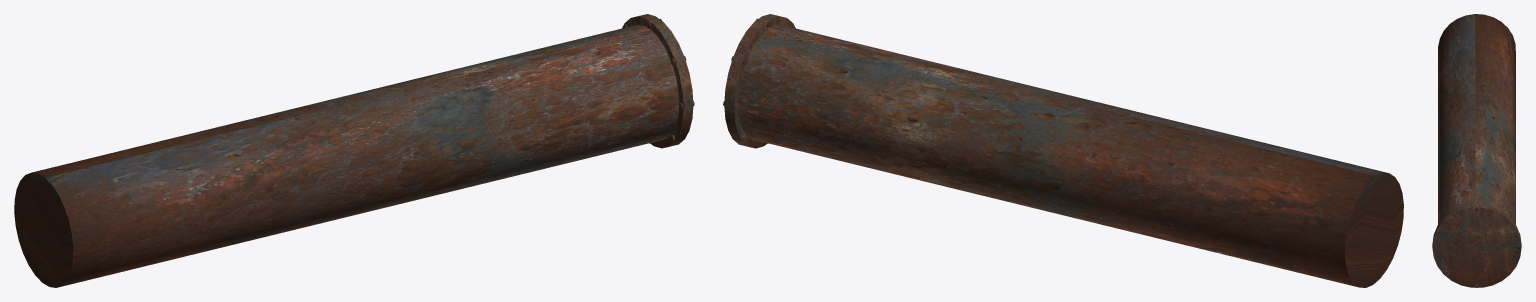
Rendered from pipe.FBX.
3 renders of one model, left to right at view 1: azimuth 30°, elevation 25°; view 2: azimuth 150°, elevation 25°; view 3: azimuth 270°, elevation 25°, orthographic. The views are drawn at different scales.
Parts seen in each view (by area): view 1: Cylinder023, Cylinder021; view 2: Cylinder023, Cylinder021; view 3: Cylinder023, Cylinder021.
Boxes of the visible parts, left/top/right/bottom form: Cylinder023: left=14, top=24, right=679, bottom=287; Cylinder021: left=622, top=14, right=693, bottom=148; Cylinder023: left=738, top=25, right=1403, bottom=287; Cylinder021: left=724, top=14, right=795, bottom=148; Cylinder023: left=1438, top=14, right=1515, bottom=224; Cylinder021: left=1432, top=204, right=1521, bottom=287.
Bounding box in the file's own units: 30.17 × 5.68 × 5.72.
1 material, 1 textured.
